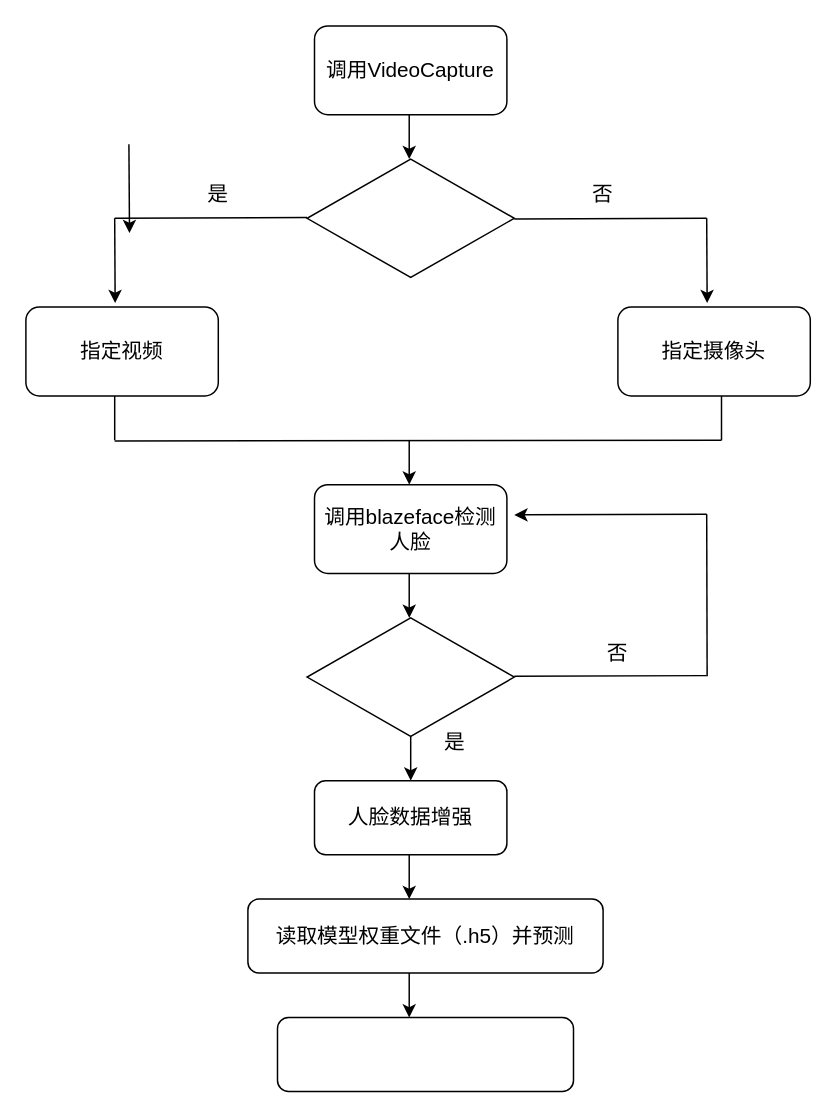
Image size: 836x1117. Some labels were removed from this diagram. The box of each missing label's shape, as (x1, y1, x2, y2) in pixels:
实时标记当前表情: (276, 1016, 574, 1092)
当前帧是否有人脸: (306, 616, 514, 736)
是否 包含 文件路径: (306, 158, 514, 278)
